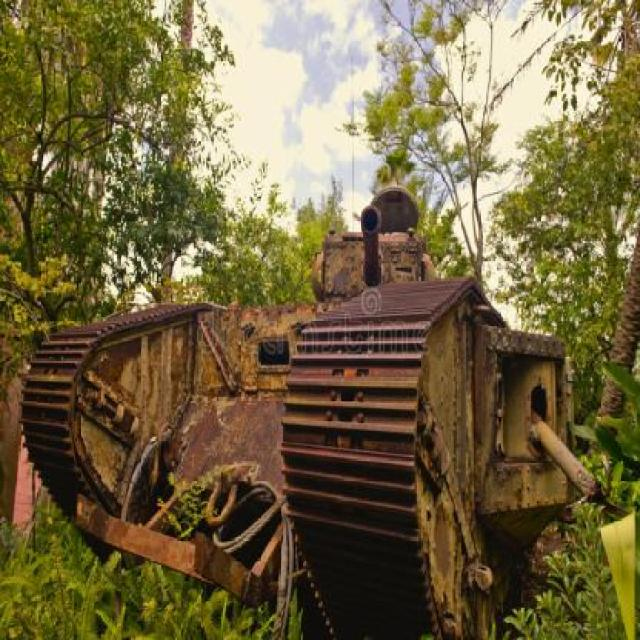corrosion: (20, 184, 604, 640)
